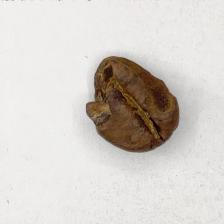NG: (84, 56, 174, 132)
